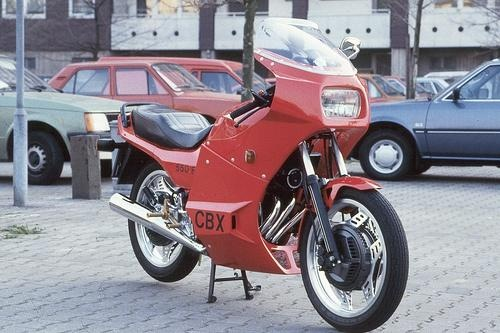car: (355, 54, 498, 179), (2, 53, 136, 181), (43, 59, 252, 129)
motorbike: (106, 17, 407, 331)
